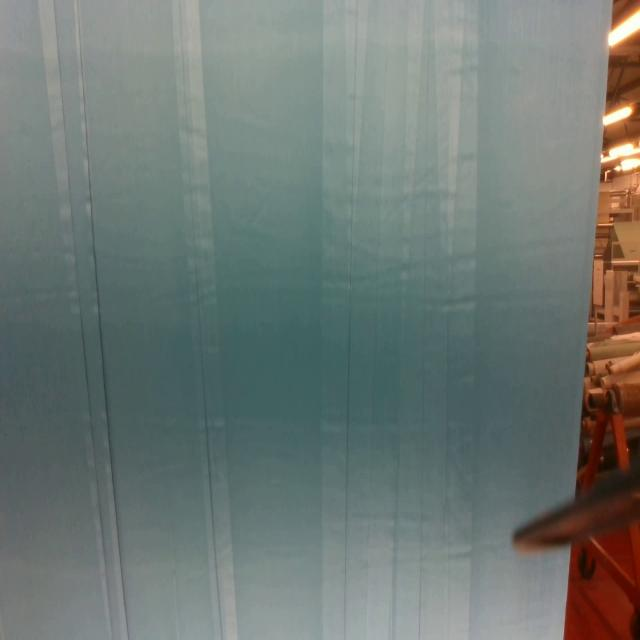crease: (40, 0, 131, 640), (174, 0, 231, 637), (339, 0, 362, 640), (418, 0, 433, 639), (442, 81, 463, 519)
